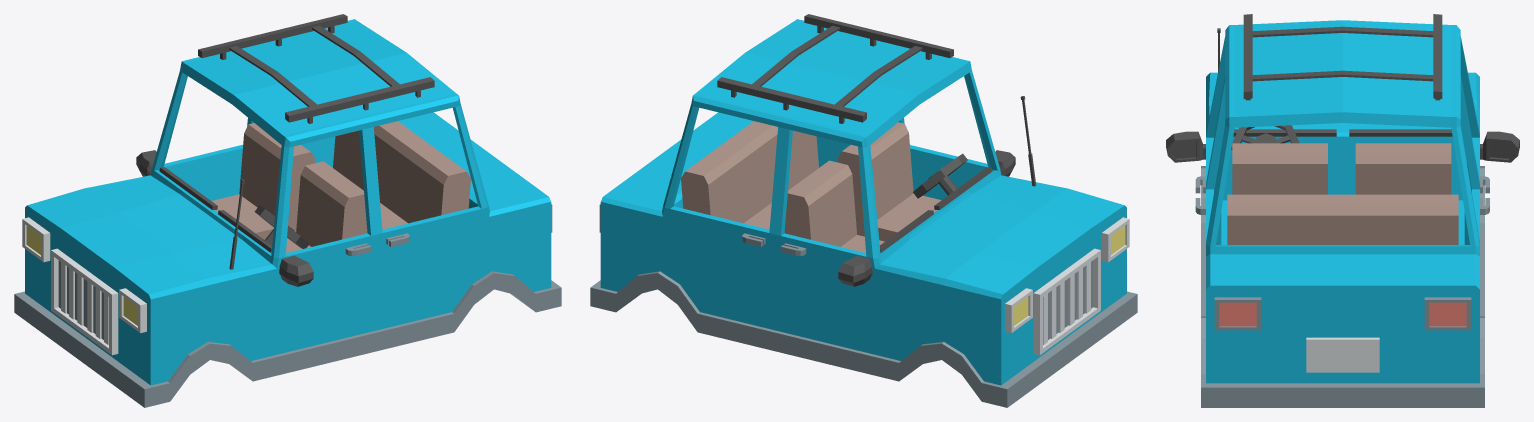
The model's file is testcar.glb.
3 renders of one model, left to right at view 1: azimuth 30°, elevation 25°; view 2: azimuth 150°, elevation 25°; view 3: azimuth 270°, elevation 25°, orthographic. The views are drawn at different scales.
Visible parts, largest first — view 1: testcar; view 2: testcar; view 3: testcar.
Part boxes in pixels (bbox=[...]): testcar: bbox=[14, 14, 561, 407]; testcar: bbox=[590, 14, 1137, 407]; testcar: bbox=[1166, 14, 1519, 407].
Size of the model in its own units: 3.59 by 1.98 by 2.42.
